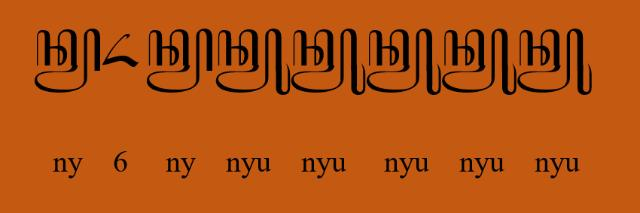6: (102, 32, 140, 68)
ny: (146, 28, 214, 96), (34, 28, 102, 94)
nyu: (516, 28, 594, 96), (216, 27, 292, 95), (291, 28, 367, 96), (365, 28, 441, 94), (442, 28, 518, 94)
